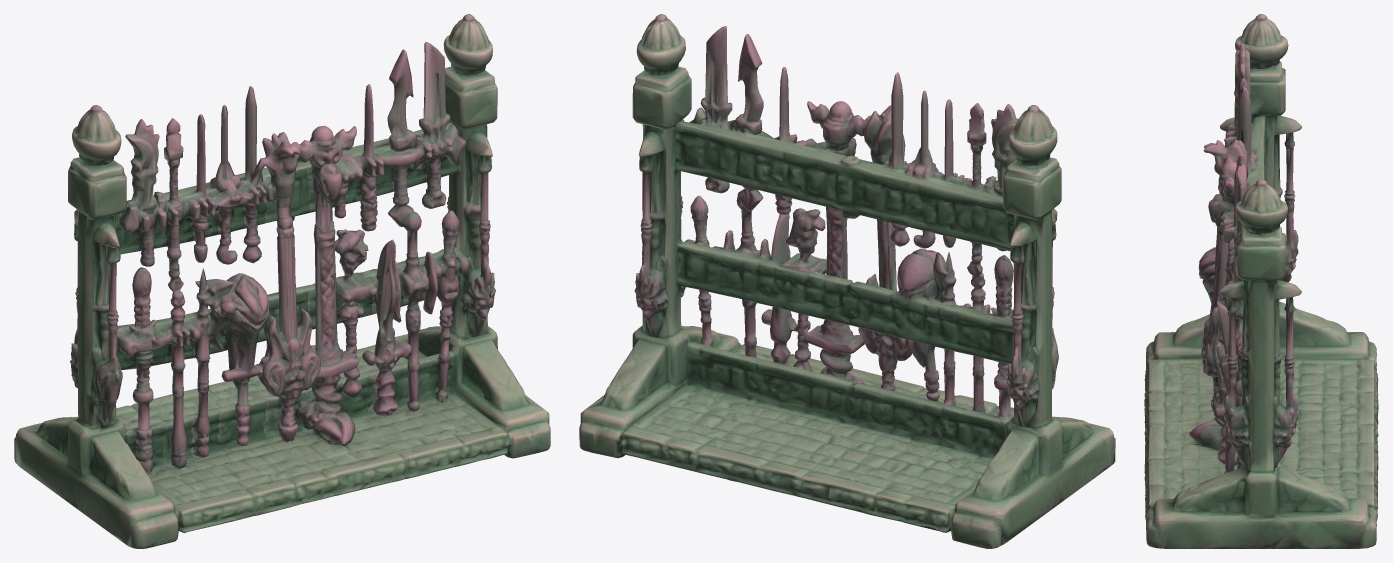
The model's file is wall_of_blades.glb.
3 views of the same model, side by side, from view 1: azimuth 30°, elevation 25°; view 2: azimuth 150°, elevation 25°; view 3: azimuth 270°, elevation 25° (orthographic). The views are drawn at different scales.
Bounding box in the file's own units: 1.9 × 1.7 × 1.
1 material, 1 textured.
